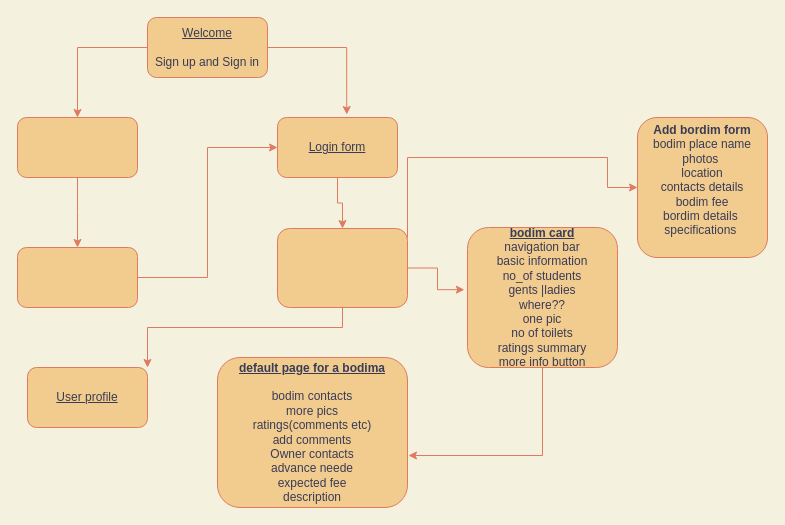
The diagram is 785 pixels wide and 525 high, and some of its shapes have lost their labels. Each missing label, with the centre of its shape:
Dashboard navigation bar Search bar bodim cards Add bordim button: point (342, 268)
Sign up form: point (77, 147)
Verification: point (77, 277)
